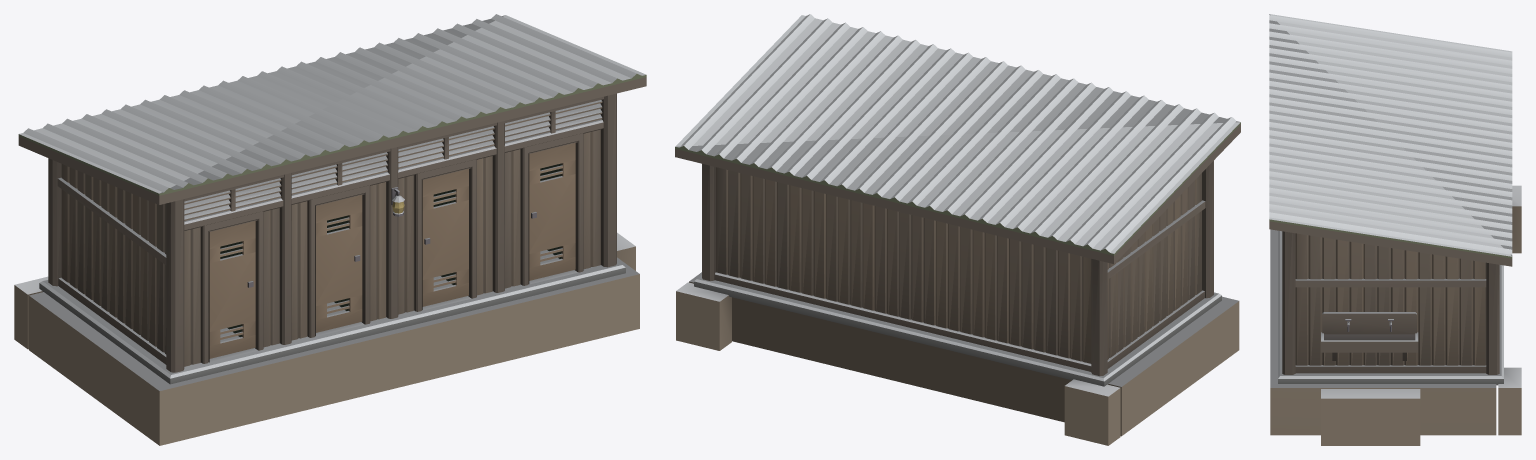
File: washhouse.glb
3 views of the same model, side by side, from view 1: azimuth 30°, elevation 25°; view 2: azimuth 150°, elevation 25°; view 3: azimuth 270°, elevation 25° (orthographic). The views are drawn at different scales.
Visible parts, largest first — view 1: washhouse; view 2: washhouse; view 3: washhouse.
Boxes of the visible parts, box(x1,y1,x2,y2) form: washhouse: box(14, 14, 646, 445); washhouse: box(675, 14, 1240, 445); washhouse: box(1269, 14, 1521, 445).
Bounding box in the file's own units: 9.98 × 4.83 × 4.98.
